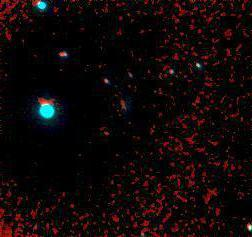star: (91, 113, 121, 143)
